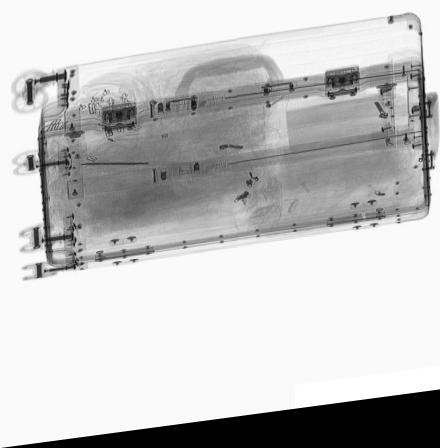Knife: (76, 165, 213, 173)
